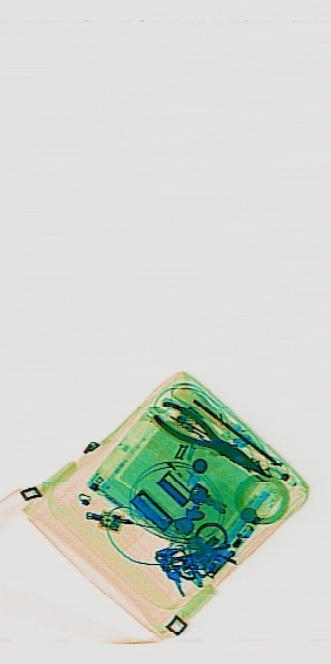Pliers: (151, 391, 271, 488)
